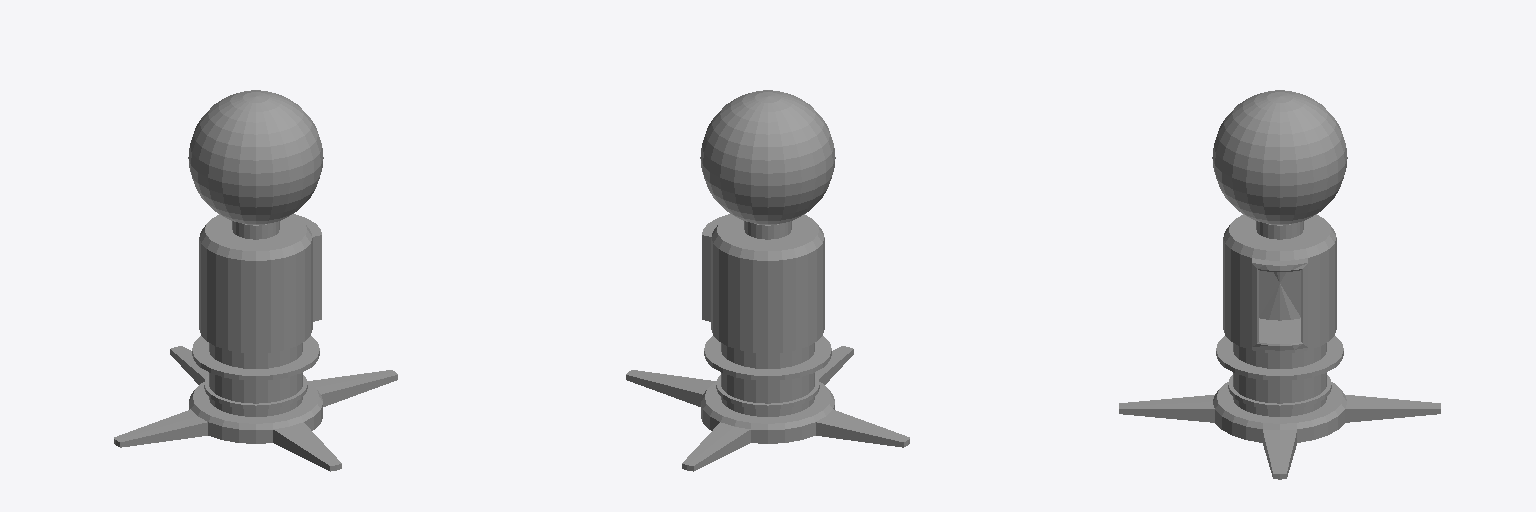
File: SpawnerNew.obj
The picture shows the model from 3 angles: view 1: azimuth 30°, elevation 25°; view 2: azimuth 150°, elevation 25°; view 3: azimuth 270°, elevation 25°; orthographic projection.
Visible parts, largest first — view 1: Body_Цилиндр_BodyMat, Sphere_Сфера_SphereMat; view 2: Body_Цилиндр_BodyMat, Sphere_Сфера_SphereMat; view 3: Body_Цилиндр_BodyMat, Sphere_Сфера_SphereMat.
Boxes of the visible parts, box(x1,y1,x2,y2) form: Body_Цилиндр_BodyMat: box(114, 214, 397, 471); Sphere_Сфера_SphereMat: box(188, 90, 323, 224); Body_Цилиндр_BodyMat: box(626, 214, 909, 471); Sphere_Сфера_SphereMat: box(700, 90, 835, 224); Body_Цилиндр_BodyMat: box(1119, 214, 1440, 479); Sphere_Сфера_SphereMat: box(1212, 90, 1347, 224).
Bounding box in the file's own units: 6.81 × 7.42 × 6.81.